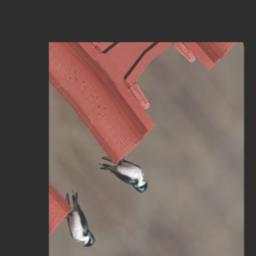Swallow: (96, 140, 154, 207)
